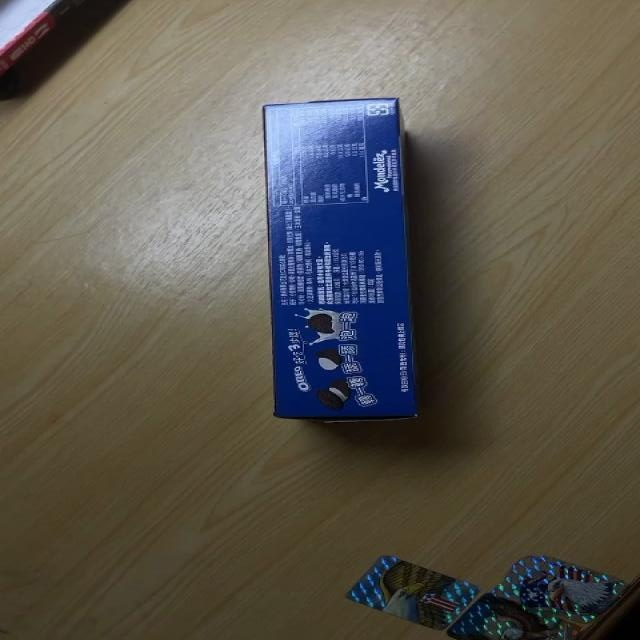Oreo: (262, 96, 414, 424)
